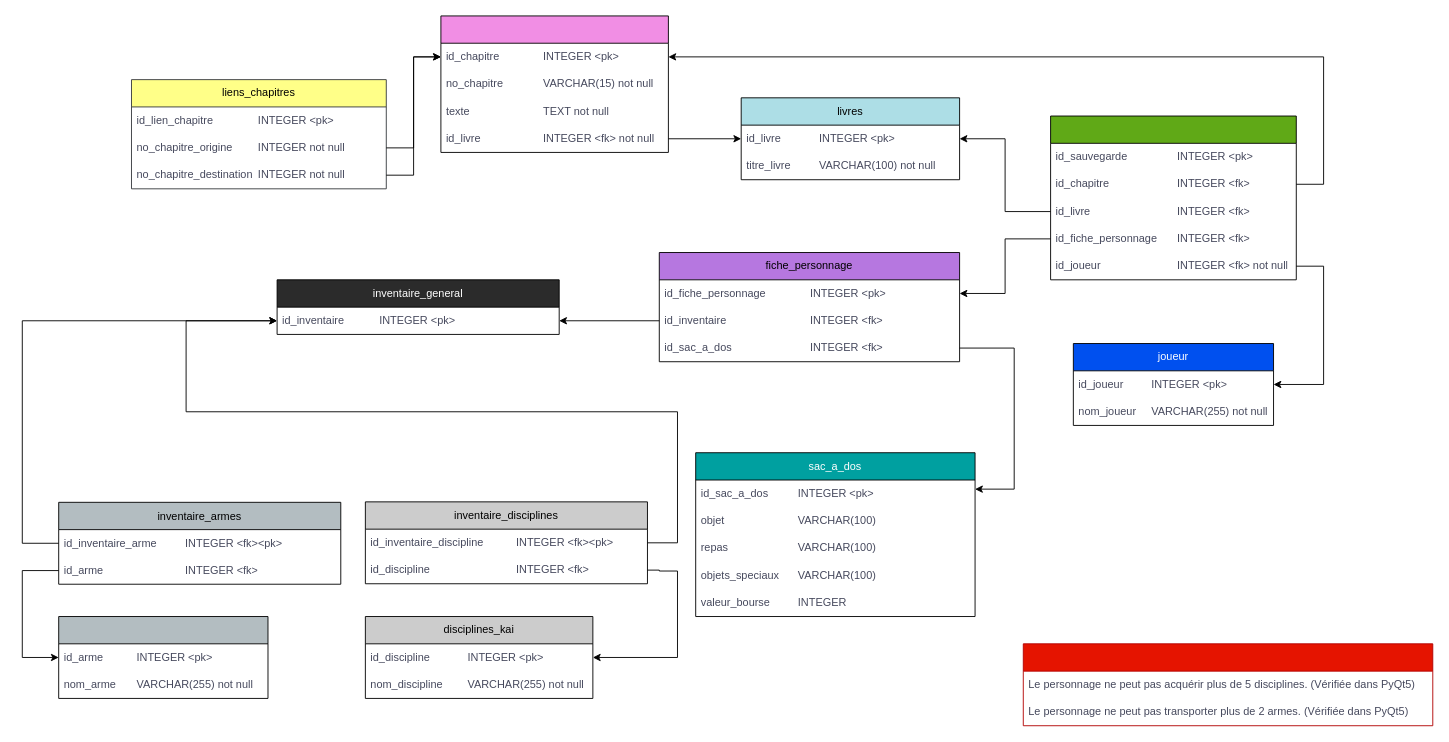
This 1449x742 diagram has some shape labels left out. The shapes that lost their labels are listed below. From the top down, each one's box as (x1, y1, x2, y2) in pixels, then its label:
(440, 15, 668, 152): chapitres
(1050, 115, 1296, 280): sauvegardes
(58, 616, 268, 698): armes
(1022, 643, 1433, 726): Contraintes
